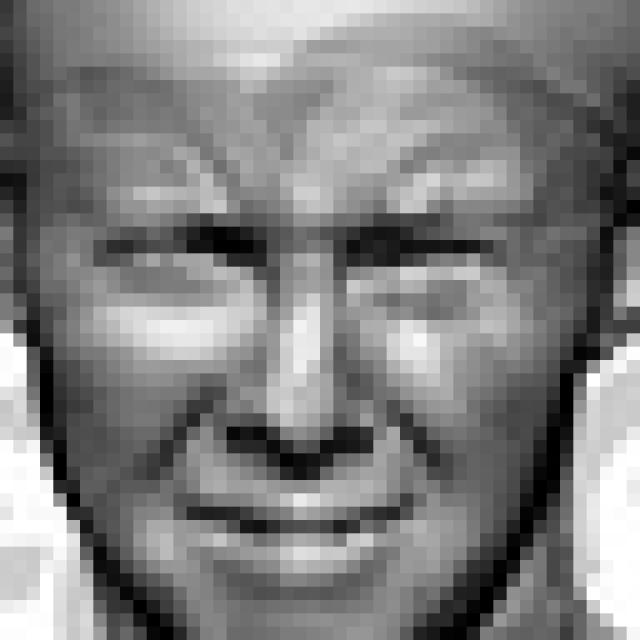disgust: (91, 186, 510, 604)
